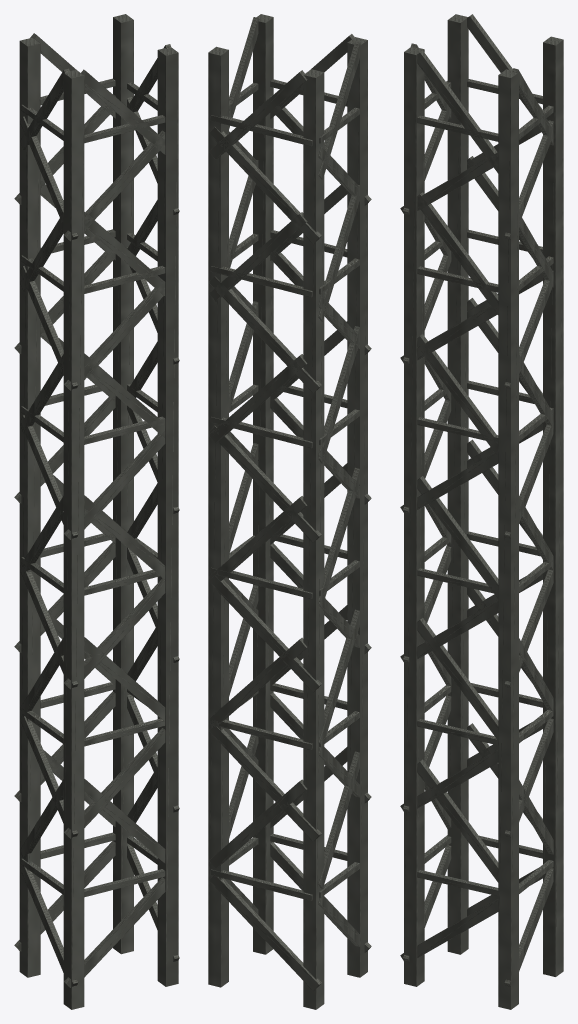
Rendered from Model_RadioBeam.FBX.
The picture shows the model from 3 angles, left to right: view 1: azimuth 30°, elevation 25°; view 2: azimuth 150°, elevation 25°; view 3: azimuth 330°, elevation 25°; orthographic projection.
Visible parts, largest first — view 1: Box002; view 2: Box002; view 3: Box002.
Boxes of the visible parts, x1,y1,x2,y2 form: Box002: (14, 14, 179, 1009); Box002: (208, 14, 371, 1009); Box002: (400, 14, 563, 1009).
Bounding box in the file's own units: 18.73 × 150 × 15.87.
1 material, 1 textured.
